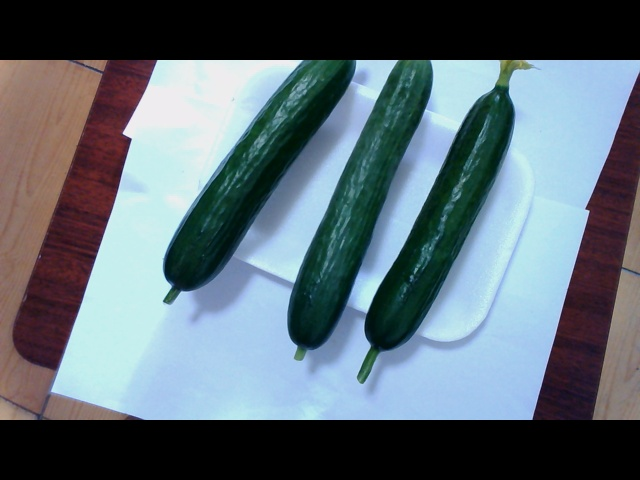cucumber: (179, 56, 503, 375)
